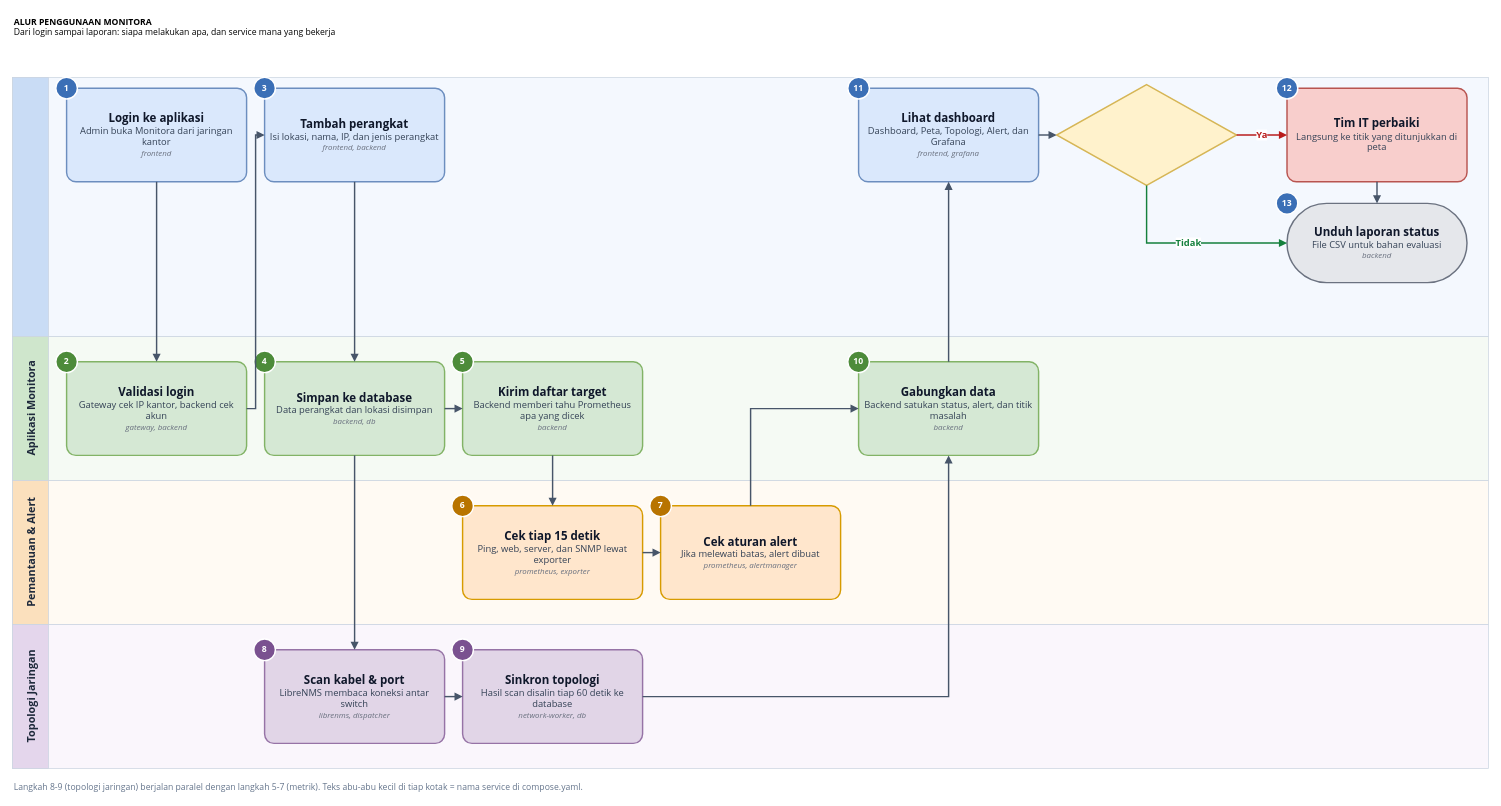
Image size: 1501x806. Some labels were removed from this diagram. The shapes that lost their labels are listed below. From the top down, each one's centre as x and y in pixels, then its label:
At point (1146, 135): "Ada masalah?".
At point (30, 207): "Admin / Pimpinan".
